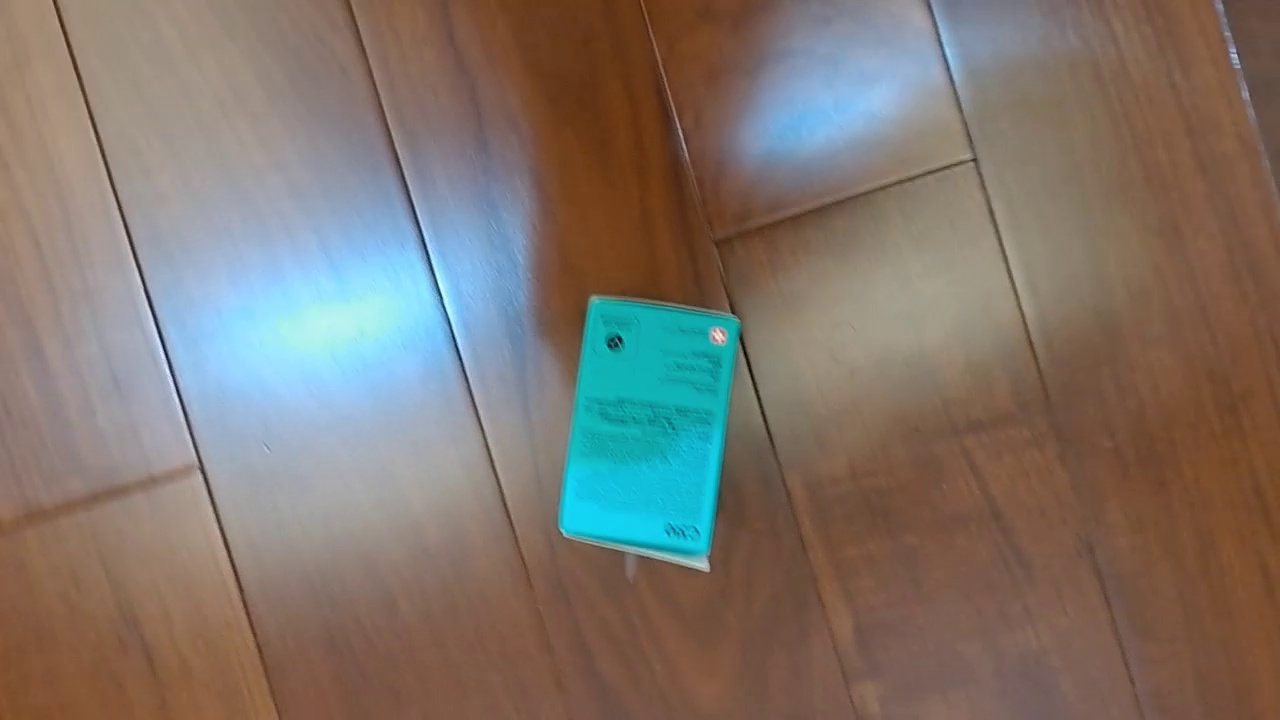webcam: (555, 294, 742, 573)
